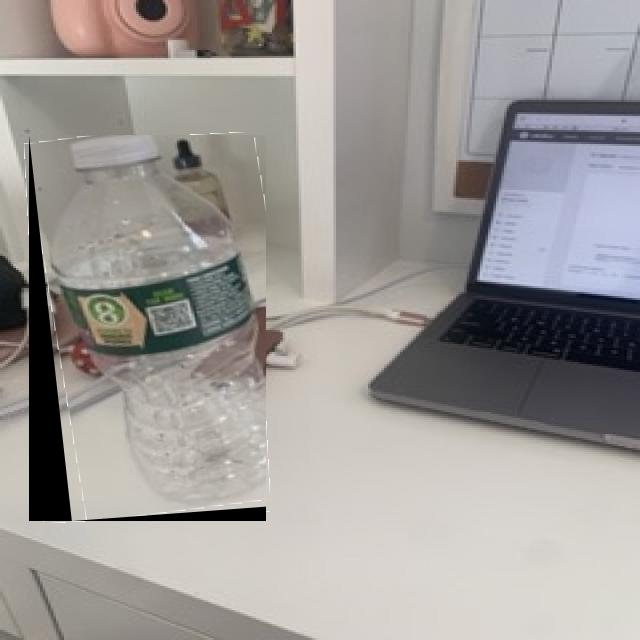water_bottle: (29, 135, 266, 521)
